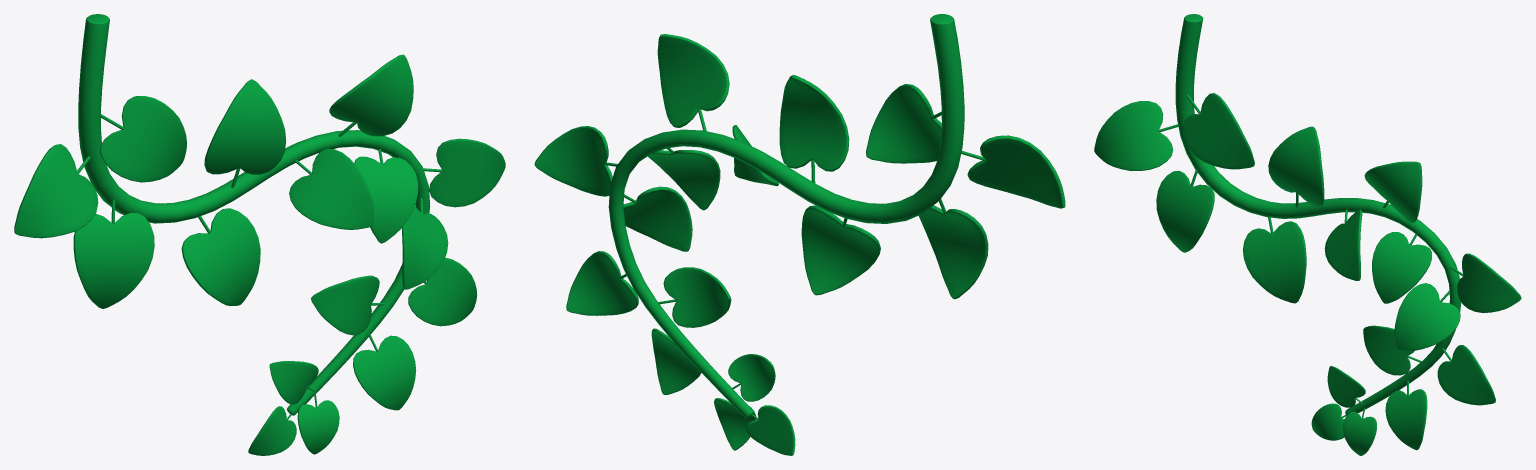
The model's file is Town_13_Ivy_3.glb.
3 views of the same model, side by side, from view 1: azimuth 30°, elevation 25°; view 2: azimuth 150°, elevation 25°; view 3: azimuth 330°, elevation 25° (orthographic). The views are drawn at different scales.
Parts seen in each view (by area): view 1: Town_13_Ivy_3; view 2: Town_13_Ivy_3; view 3: Town_13_Ivy_3.
Part boxes in pixels (x1,y1,x2,y2): Town_13_Ivy_3: [14, 14, 505, 455]; Town_13_Ivy_3: [534, 14, 1065, 455]; Town_13_Ivy_3: [1094, 14, 1521, 455].
Bounding box in the file's own units: 2.41 × 2.19 × 0.3479.
Materials: 1 (1 with a texture image).
